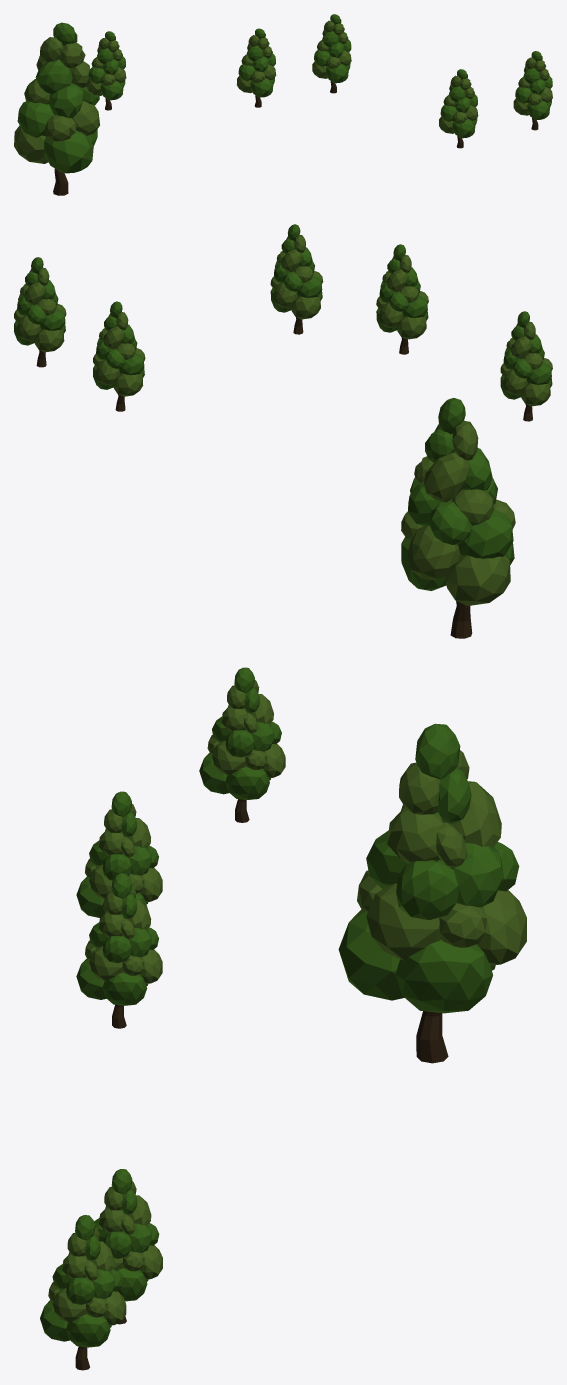
File: decor21.obj
The picture shows the model from 3 angles, top to bottom: view 1: azimuth 30°, elevation 25°; view 2: azimuth 150°, elevation 25°; view 3: azimuth 270°, elevation 25°; orthographic projection. The views are drawn at different scales.
Parts seen in each view (by area): view 1: Poplar_Cylinder.020, Poplar_Cylinder.015, Poplar_Cylinder.017, Poplar_Cylinder.019, Poplar_Cylinder.016, Poplar_Cylinder.018; view 2: Poplar_Cylinder.020, Poplar_Cylinder.019, Poplar_Cylinder.018, Poplar_Cylinder.015, Poplar_Cylinder.017, Poplar_Cylinder.016; view 3: Poplar_Cylinder.020, Poplar_Cylinder.015, Poplar_Cylinder.017, Poplar_Cylinder.019, Poplar_Cylinder.018, Poplar_Cylinder.016.
Part boxes in pixels (x1,y1,x2,y2): Poplar_Cylinder.020: (14, 22, 99, 195); Poplar_Cylinder.015: (513, 51, 552, 130); Poplar_Cylinder.017: (312, 14, 351, 93); Poplar_Cylinder.019: (87, 31, 126, 110); Poplar_Cylinder.016: (439, 69, 478, 148); Poplar_Cylinder.018: (236, 28, 276, 107); Poplar_Cylinder.020: (401, 398, 515, 638); Poplar_Cylinder.019: (500, 311, 552, 421); Poplar_Cylinder.018: (376, 244, 428, 354); Poplar_Cylinder.015: (14, 257, 66, 367); Poplar_Cylinder.017: (270, 224, 323, 334); Poplar_Cylinder.016: (93, 301, 145, 411); Poplar_Cylinder.020: (338, 723, 526, 1063); Poplar_Cylinder.015: (40, 1215, 126, 1370); Poplar_Cylinder.017: (76, 873, 162, 1028); Poplar_Cylinder.019: (199, 667, 285, 822); Poplar_Cylinder.018: (76, 791, 162, 917); Poplar_Cylinder.016: (94, 1169, 162, 1324).
Size of the model in its own units: 2339 by 988 by 1118.
